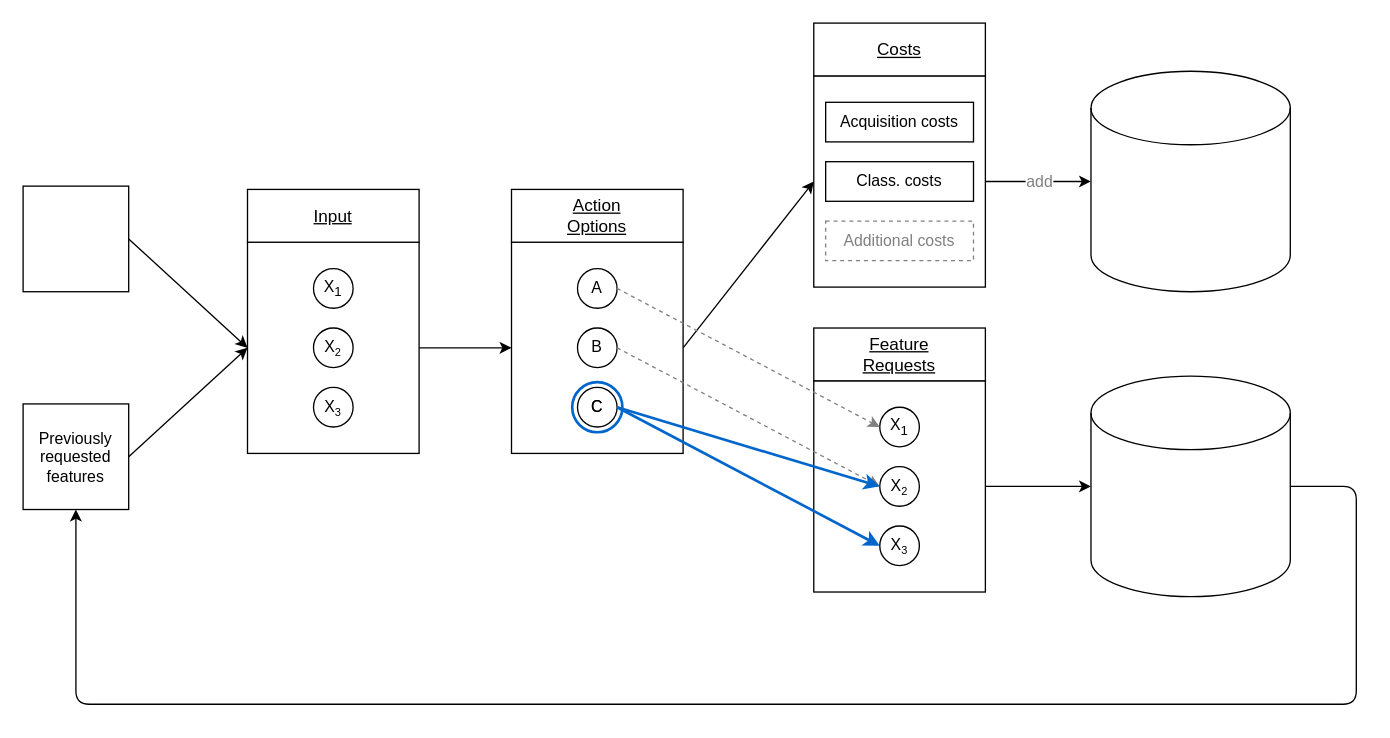
Some shapes in this 1390 by 738 pixel diagram are drawn without their labels. Each missing label, with the centre of its shape:
"Free incoming information" belongs at point (75, 238).
"Stack of features made available at future time steps" belongs at point (1190, 486).
"Total costs" belongs at point (1190, 181).
